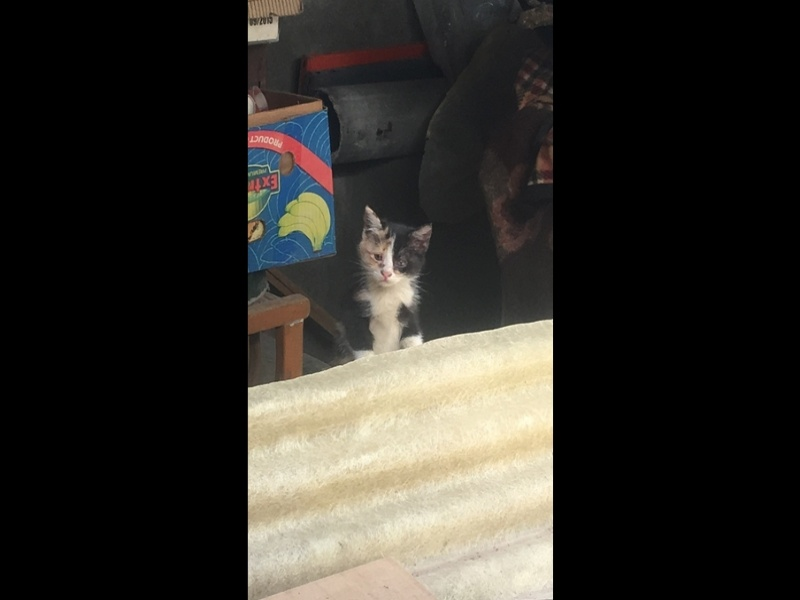cat: (343, 204, 441, 373)
